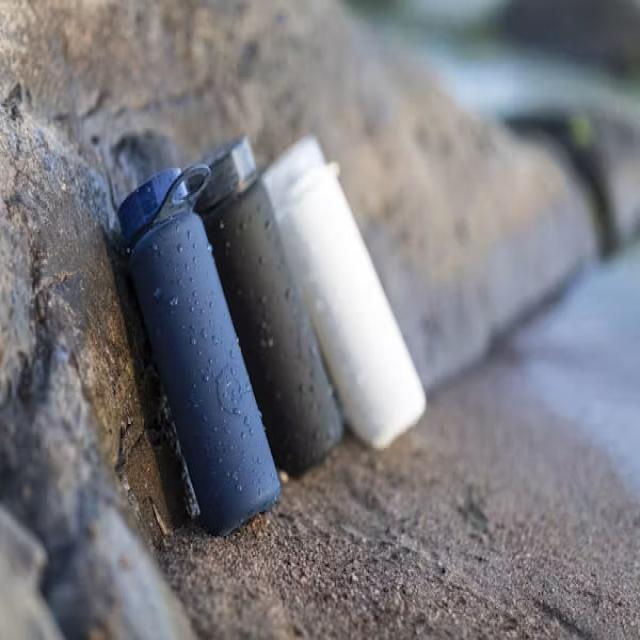Bottle: (119, 165, 280, 534), (264, 138, 425, 447), (196, 138, 342, 475)
